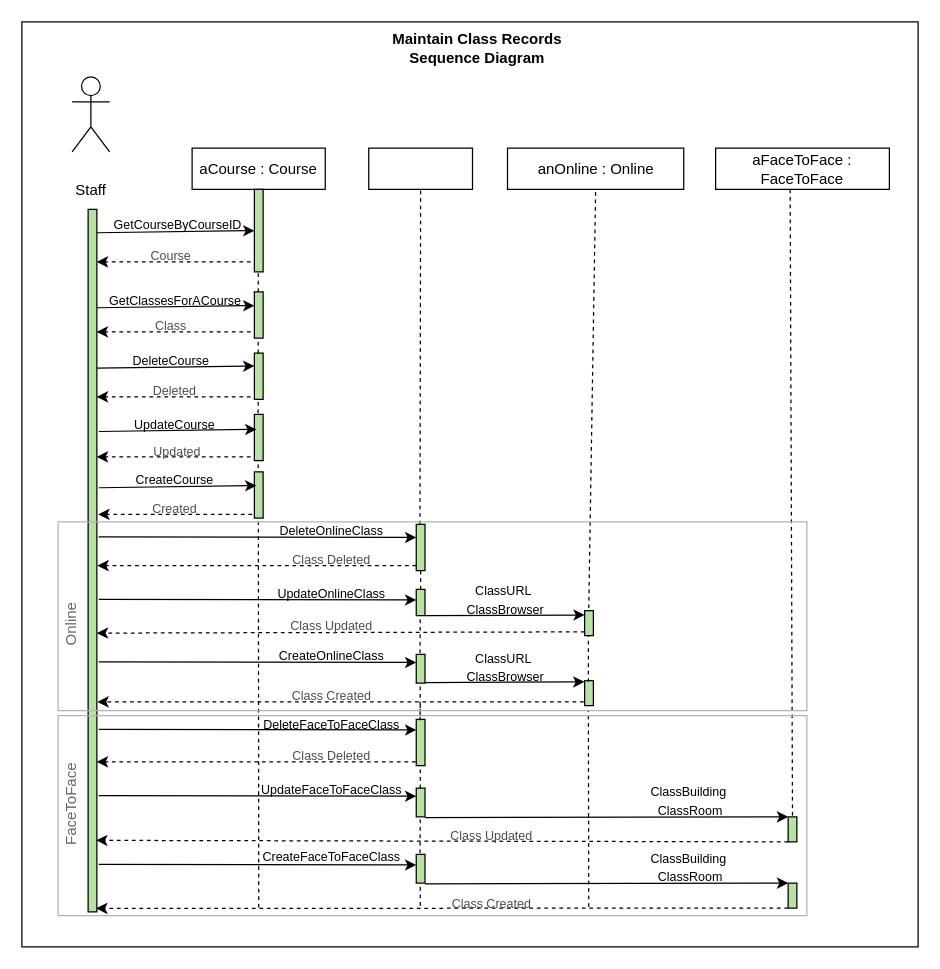
Some shapes in this 940 by 969 pixel diagram are drawn without their labels. The shapes that lost their labels are listed below. From the top down, each one's box as (x1, y1, x2, y2) in pixels, then its label:
(71, 76, 110, 152): Actor
(368, 147, 472, 189): aClass : Class
